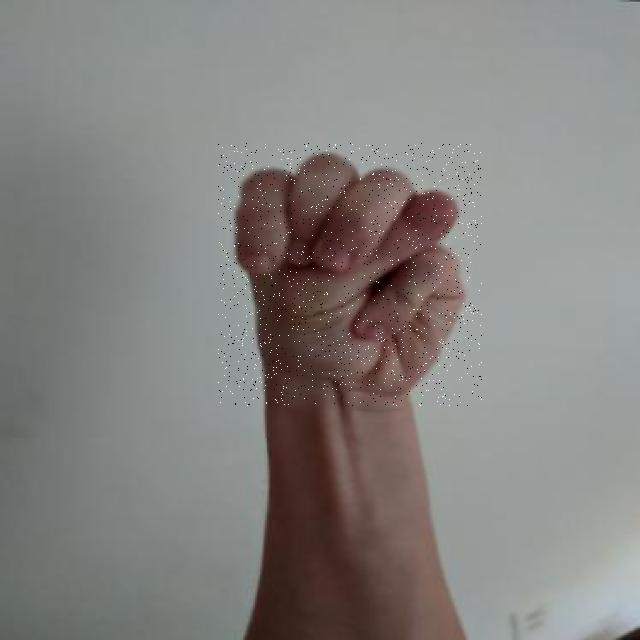M: (218, 143, 482, 406)
